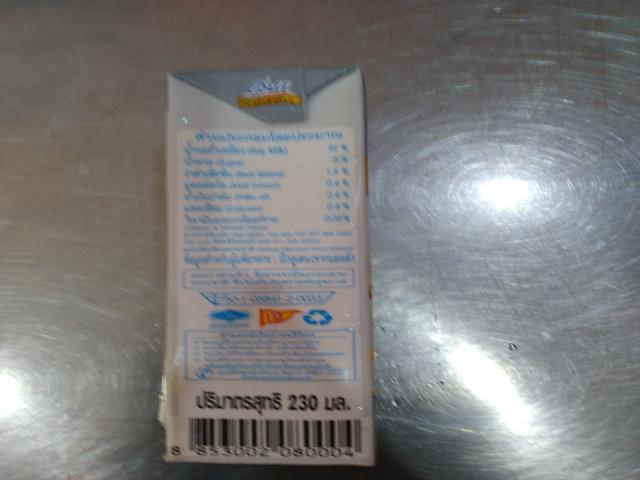drink_box: (139, 52, 437, 480)
